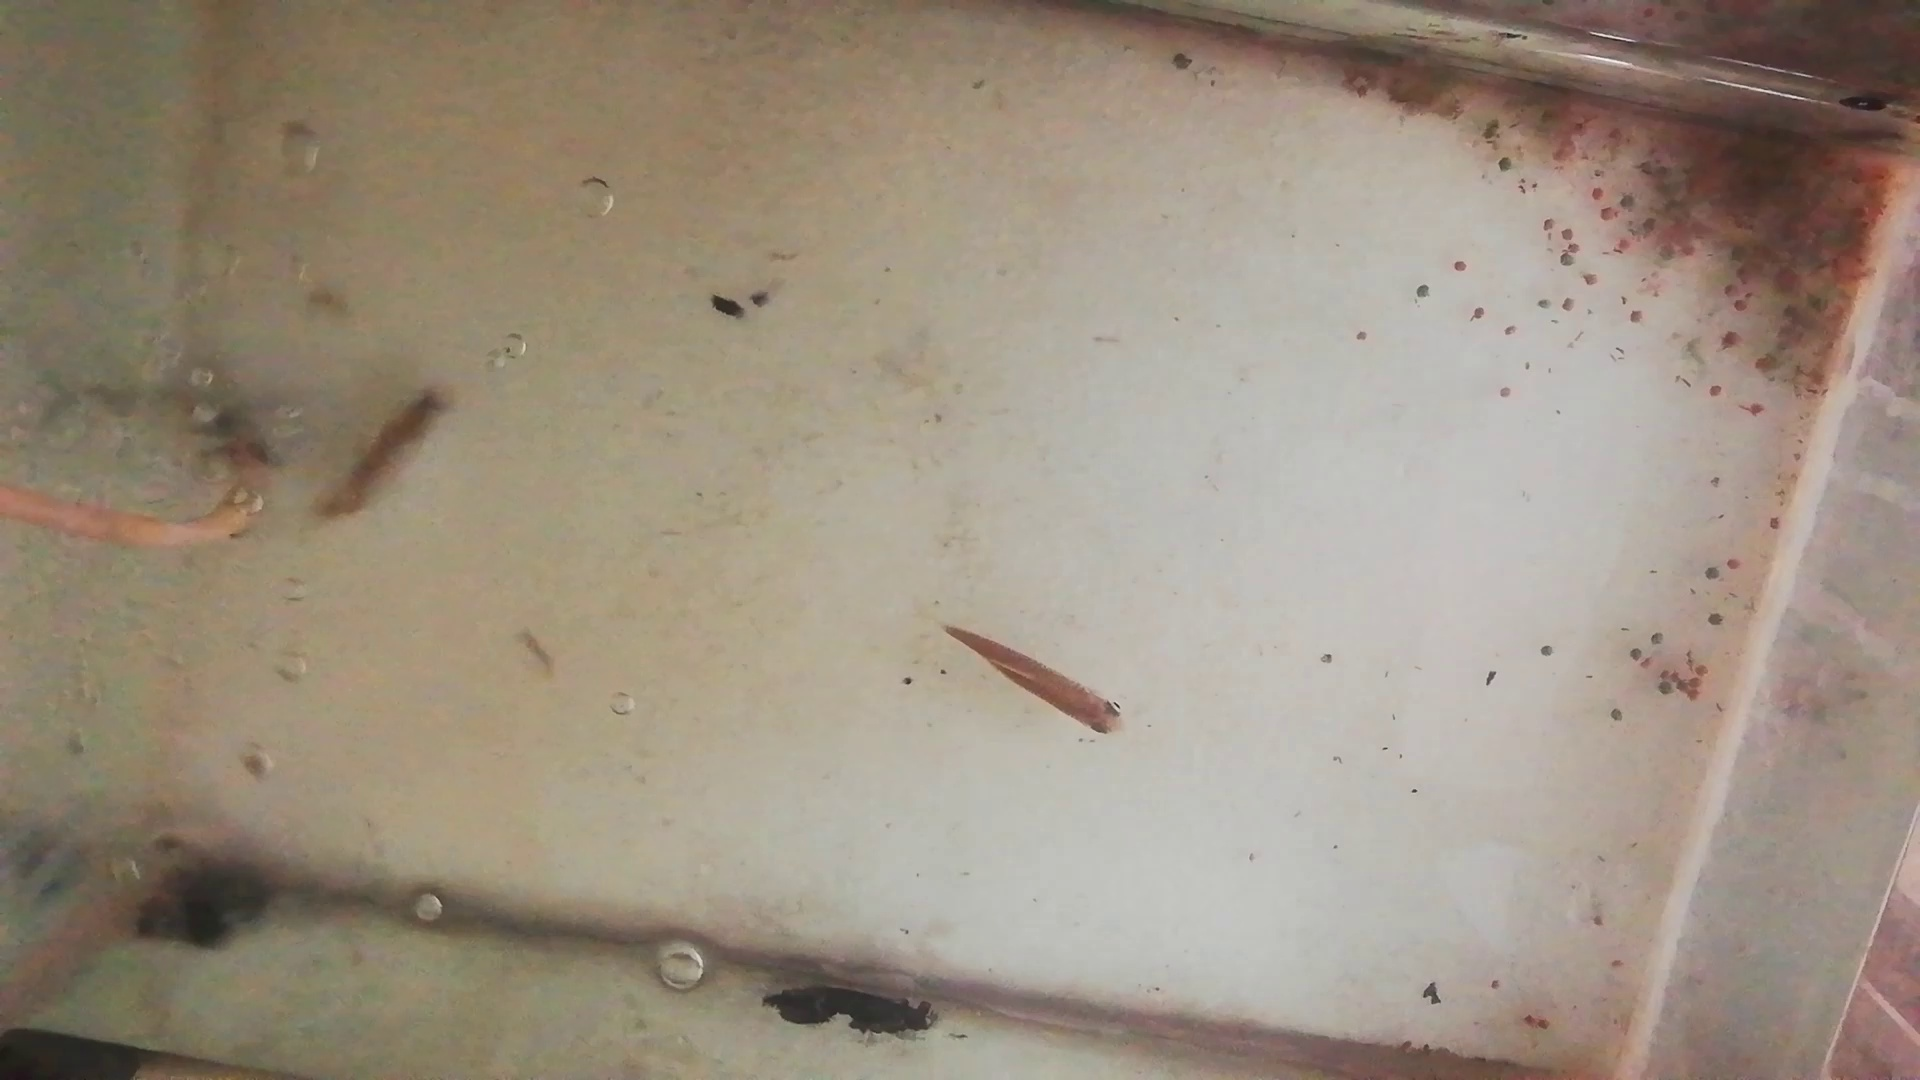fish: (307, 385, 465, 527), (943, 621, 1131, 738)
